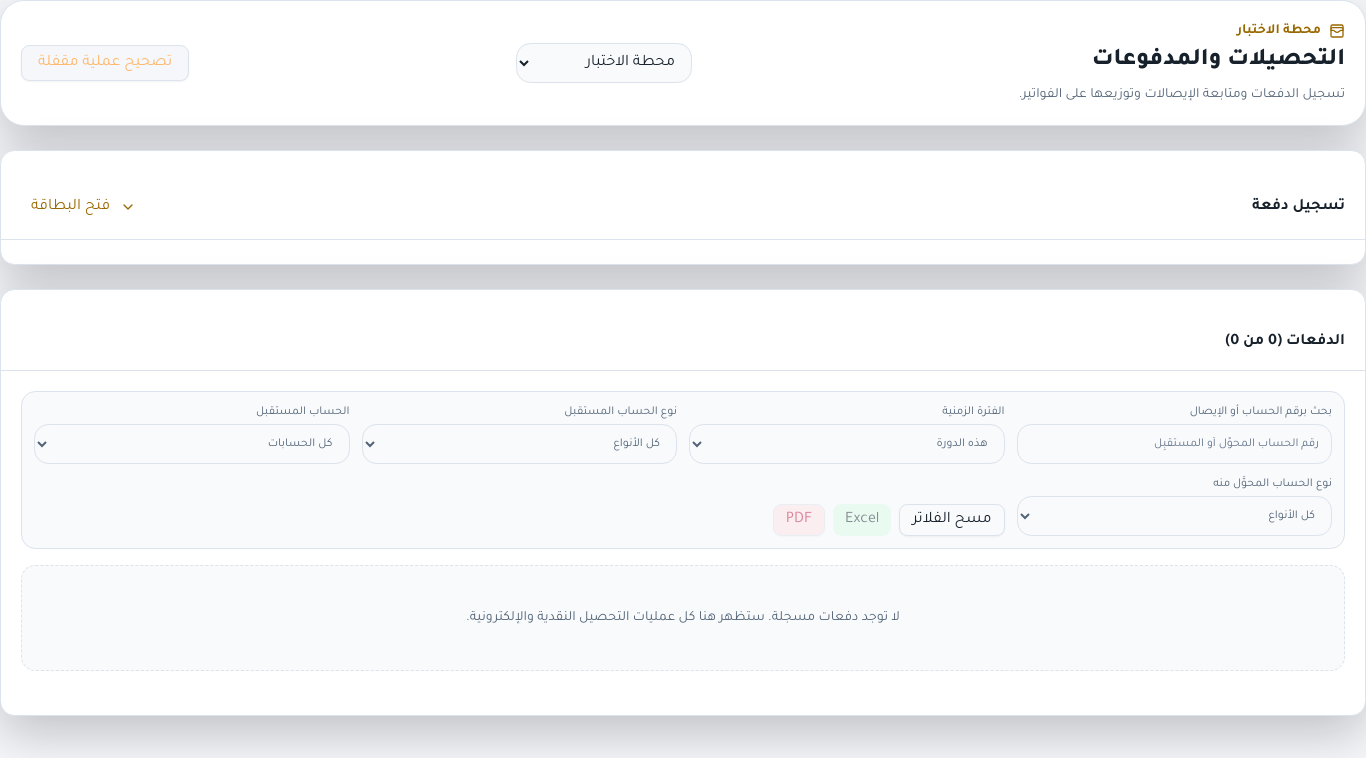
Test case: role guards in administration UI › hides payment entry from the viewer in the operational collections view
Click the button "فتح البطاقة" at (84, 207), box [21,191,146,223]
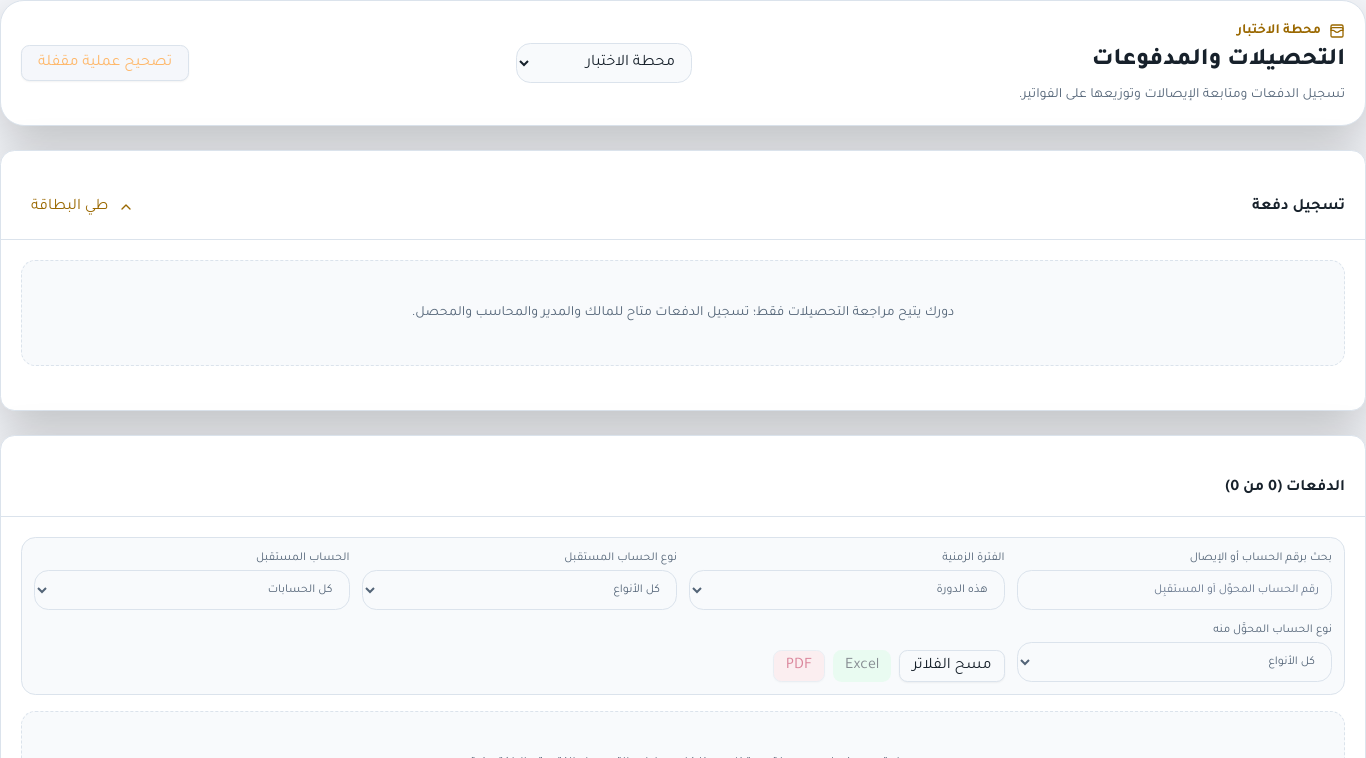
Expected: the text "دورك يتيح مراجعة التحصيلات فقط" is shown, [412,306,954,320]
